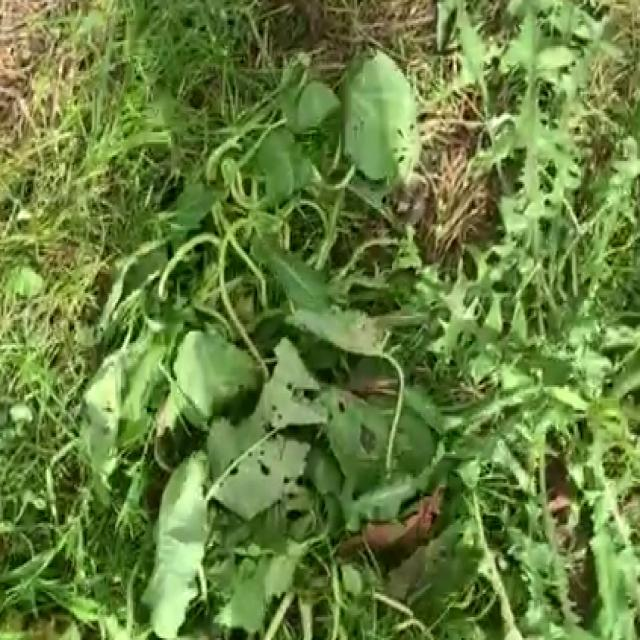organic waste: (172, 226, 506, 627), (6, 52, 393, 339)
